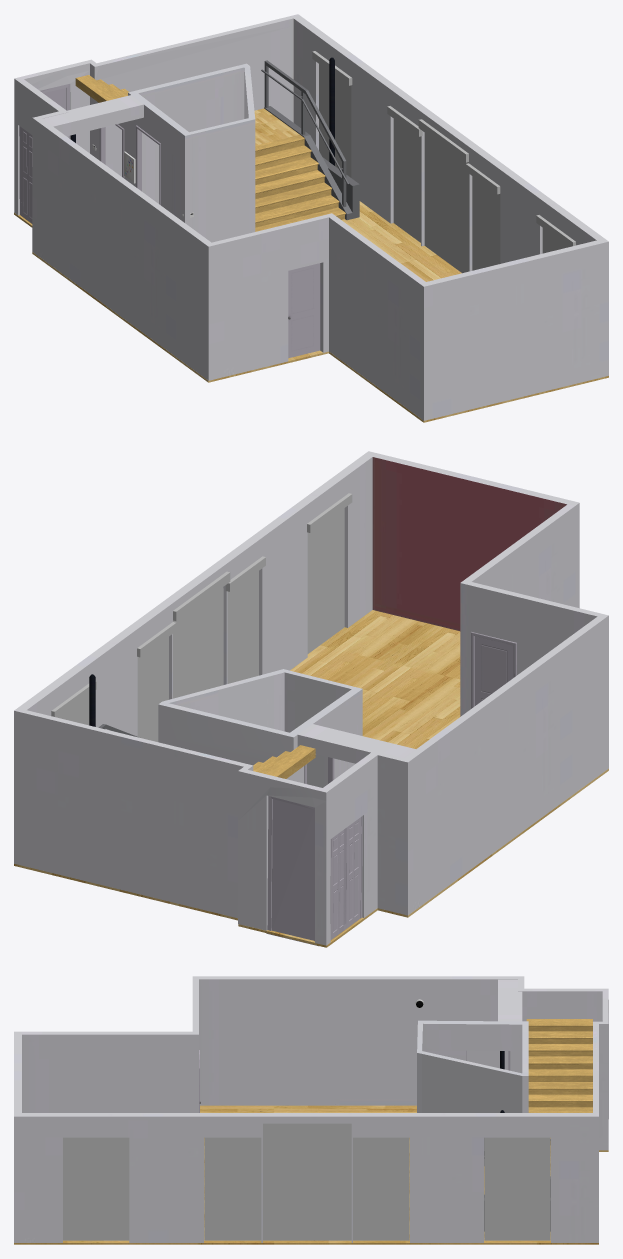
Rendered from Stage_v3_sc2_staging.glb.
3 renders of one model, top to bottom at view 1: azimuth 30°, elevation 25°; view 2: azimuth 150°, elevation 25°; view 3: azimuth 270°, elevation 25°, orthographic. The views are drawn at different scales.
Visible parts, largest first — view 1: frl_apartment_wall_arch, frl_apartment_blinds.001, frl_apartment_stair.001, frl_apartment_floor.001, frl_apartment_door_01.001, frl_apartment_door_05.001, frl_apartment_pipe.001, frl_apartment_door_part.005; view 2: frl_apartment_wall_arch, frl_apartment_blinds.001, frl_apartment_floor.001, frl_apartment_door_04.001, frl_apartment_door_01.001, frl_apartment_door_05.001, frl_apartment_door_06.001, frl_apartment_stair.001, frl_apartment_door_part.003; view 3: frl_apartment_wall_arch, frl_apartment_blinds.001, frl_apartment_stair.001, frl_apartment_floor.001.
Boxes of the visible parts, x1,y1,x2,y2 form: frl_apartment_wall_arch: [14, 14, 608, 420]; frl_apartment_blinds.001: [312, 51, 575, 273]; frl_apartment_stair.001: [75, 60, 359, 231]; frl_apartment_floor.001: [14, 201, 608, 422]; frl_apartment_door_01.001: [288, 263, 319, 358]; frl_apartment_door_05.001: [21, 127, 32, 223]; frl_apartment_pipe.001: [70, 57, 334, 165]; frl_apartment_door_part.005: [136, 125, 160, 205]; frl_apartment_wall_arch: [14, 451, 608, 945]; frl_apartment_blinds.001: [51, 493, 352, 741]; frl_apartment_floor.001: [14, 610, 608, 947]; frl_apartment_door_04.001: [271, 799, 314, 940]; frl_apartment_door_01.001: [474, 636, 513, 705]; frl_apartment_door_05.001: [330, 828, 346, 939]; frl_apartment_door_06.001: [346, 817, 361, 928]; frl_apartment_stair.001: [98, 724, 315, 778]; frl_apartment_door_part.003: [266, 796, 318, 946]; frl_apartment_wall_arch: [14, 976, 608, 1242]; frl_apartment_blinds.001: [63, 1123, 550, 1240]; frl_apartment_stair.001: [484, 1019, 592, 1231]; frl_apartment_floor.001: [14, 1105, 608, 1244].
Size of the model in its own units: 7.26 by 3.13 by 13.
Materials: 10 (9 with a texture image).
